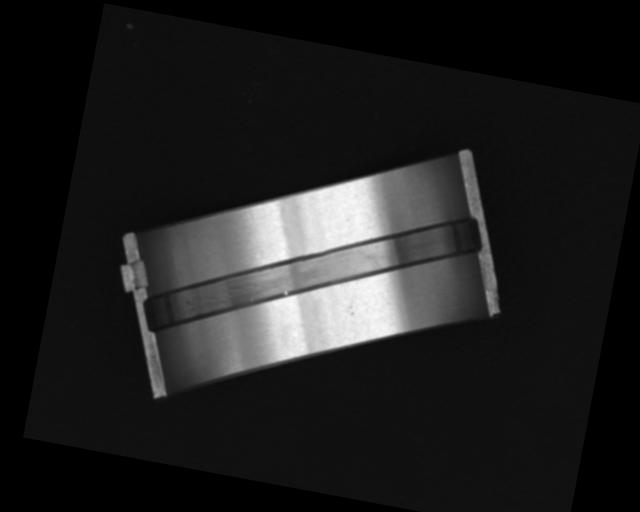gap: (139, 159, 487, 386)
